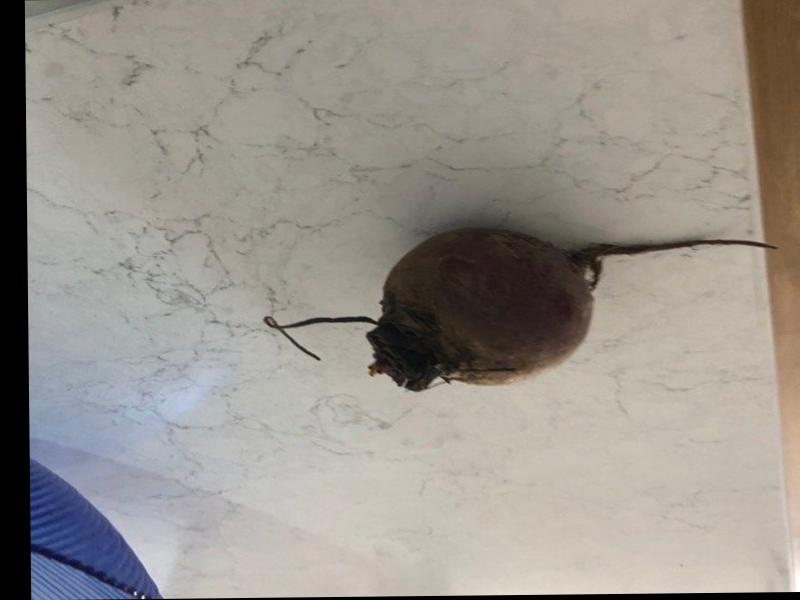Beet: (264, 226, 784, 390)
